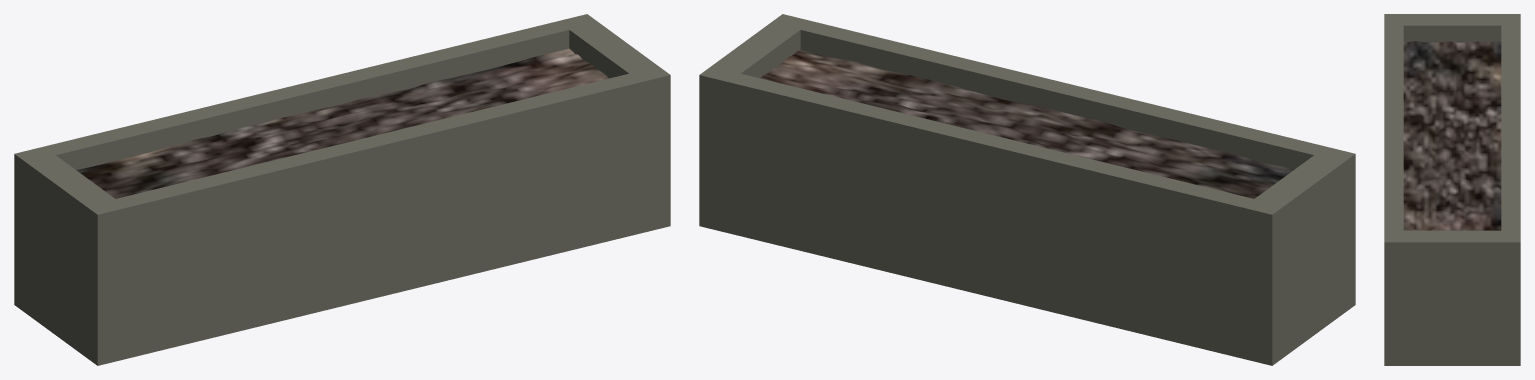
The model's file is Plant-boxs.fbx.
3 views of the same model, side by side, from view 1: azimuth 30°, elevation 25°; view 2: azimuth 150°, elevation 25°; view 3: azimuth 270°, elevation 25° (orthographic). The views are drawn at different scales.
Parts seen in each view (by area): view 1: Cube.001, Cube.022; view 2: Cube.001, Cube.022; view 3: Cube.001, Cube.022.
Boxes of the visible parts, x1=… form: Cube.001: x1=14, y1=14, x2=670, y2=365; Cube.022: x1=76, y1=48, x2=608, y2=198; Cube.001: x1=699, y1=14, x2=1355, y2=365; Cube.022: x1=760, y1=50, x2=1293, y2=198; Cube.001: x1=1384, y1=14, x2=1520, y2=365; Cube.022: x1=1403, y1=41, x2=1501, y2=230.
Bounding box in the file's own units: 90.16 × 22.72 × 22.72.
Materials: 2 (1 with a texture image).
